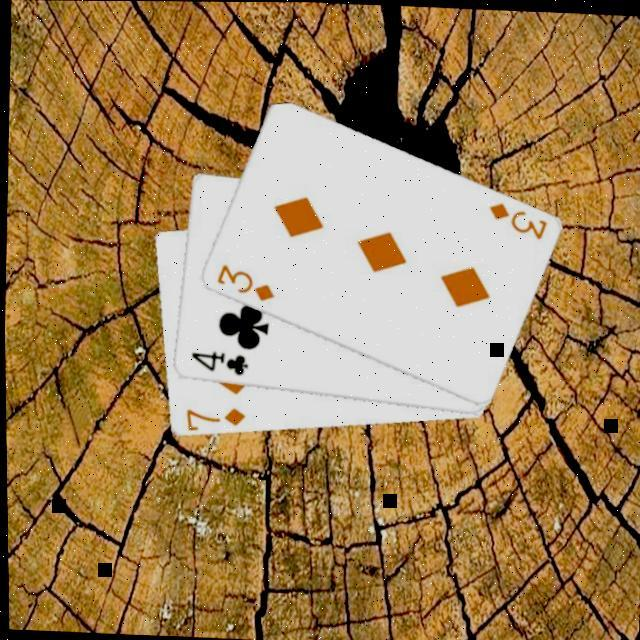3D: (482, 196, 549, 240), (210, 259, 276, 303)
4C: (184, 347, 249, 378)
7D: (179, 401, 246, 431)
